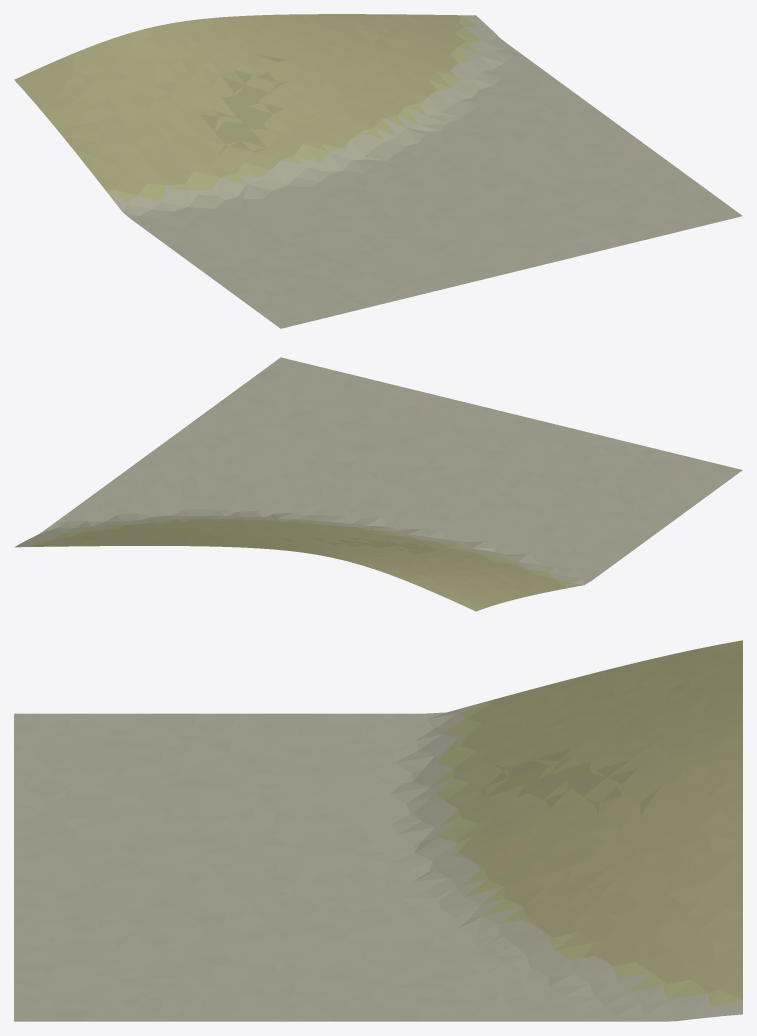
Rendered from Ground_-4_0.glb.
3 views of the same model, one above another, from view 1: azimuth 30°, elevation 25°; view 2: azimuth 150°, elevation 25°; view 3: azimuth 270°, elevation 25° (orthographic). The views are drawn at different scales.
Visible parts, largest first — view 1: Ground_-4_0; view 2: Ground_-4_0; view 3: Ground_-4_0.
Part boxes in pixels (x1,y1,x2,y2): Ground_-4_0: [14, 14, 742, 328]; Ground_-4_0: [14, 357, 742, 611]; Ground_-4_0: [14, 640, 742, 1021].
Size of the model in its own units: 768 by 115 by 768.
